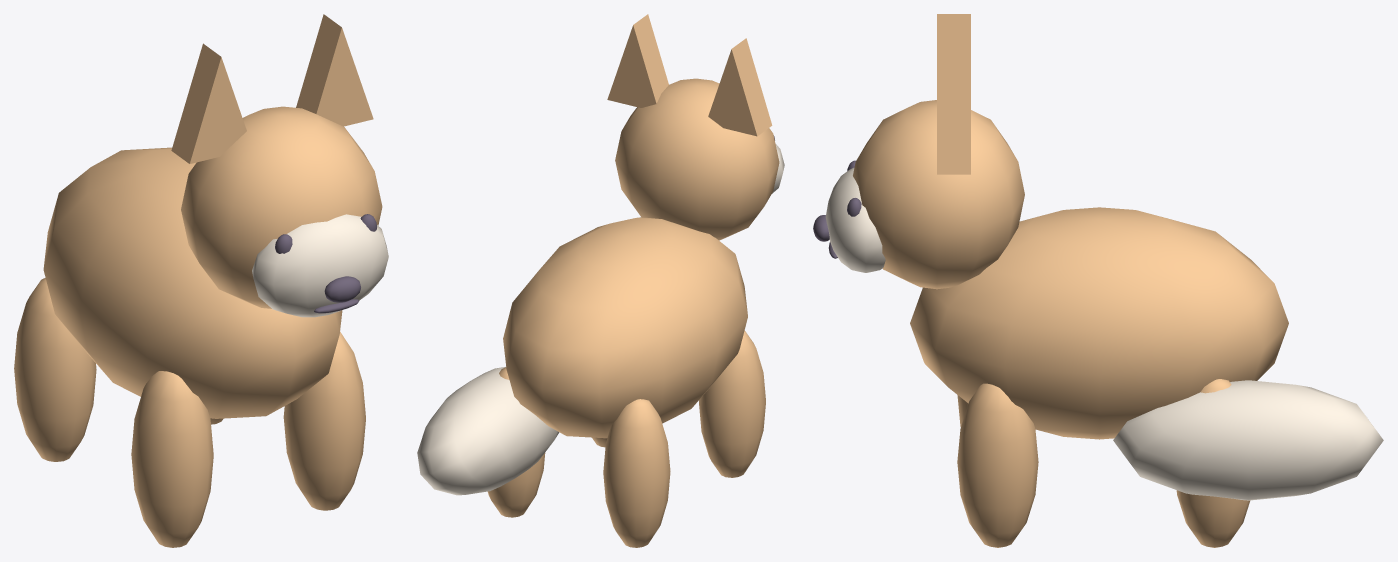
Rendered from fox-hope.glb.
The picture shows the model from 3 angles, left to right: view 1: azimuth 30°, elevation 25°; view 2: azimuth 150°, elevation 25°; view 3: azimuth 270°, elevation 25°; orthographic projection. The views are drawn at different scales.
Parts seen in each view (by area): view 1: fox hope offline illustration; view 2: fox hope offline illustration; view 3: fox hope offline illustration.
Boxes of the visible parts, left/top/right/bottom form: fox hope offline illustration: left=14, top=14, right=388, bottom=547; fox hope offline illustration: left=417, top=14, right=784, bottom=547; fox hope offline illustration: left=813, top=14, right=1383, bottom=547.
Bounding box in the file's own units: 0.3995 × 0.77 × 0.843.
